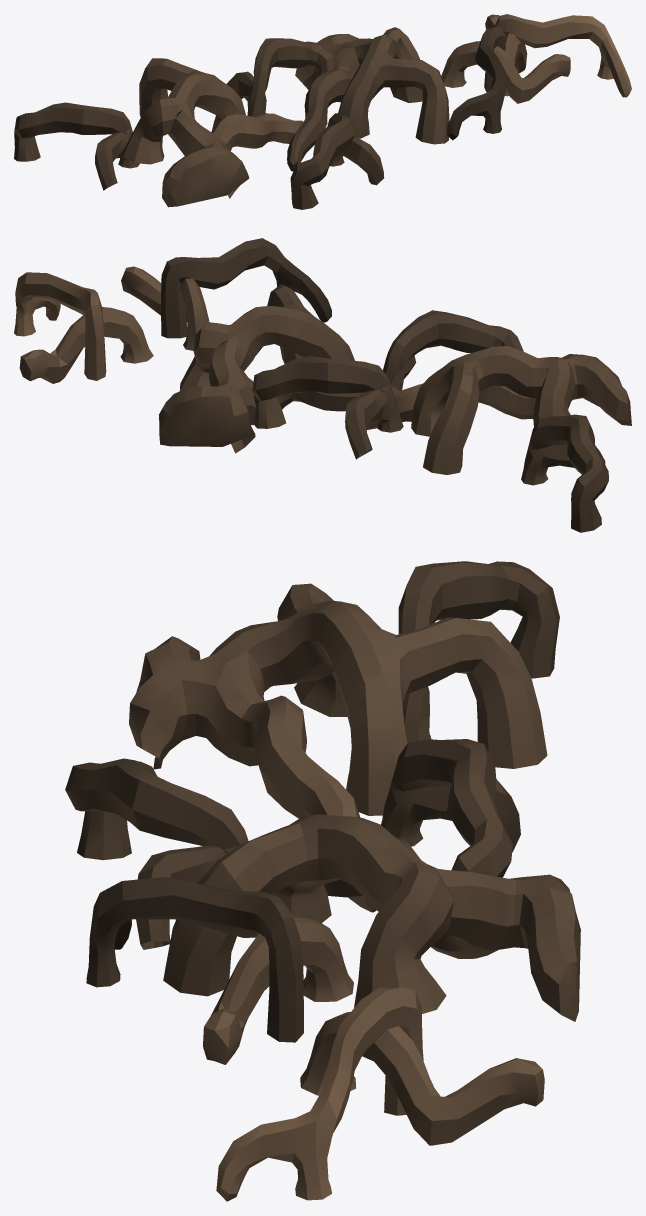
The model's file is ea_swamp_root_04d_pre_7_lev1.glb.
3 renders of one model, top to bottom at view 1: azimuth 30°, elevation 25°; view 2: azimuth 150°, elevation 25°; view 3: azimuth 270°, elevation 25°, orthographic. The views are drawn at different scales.
Parts seen in each view (by area): view 1: ea_swamp_root_04d_pre_7_lev1; view 2: ea_swamp_root_04d_pre_7_lev1; view 3: ea_swamp_root_04d_pre_7_lev1.
Part boxes in pixels (x1=…): ea_swamp_root_04d_pre_7_lev1: x1=14, y1=14, x2=631, y2=209; ea_swamp_root_04d_pre_7_lev1: x1=14, y1=238, x2=631, y2=532; ea_swamp_root_04d_pre_7_lev1: x1=65, y1=561, x2=580, y2=1201.
Bounding box in the file's own units: 4.2 × 0.779 × 1.71.
1 material, 1 textured.
